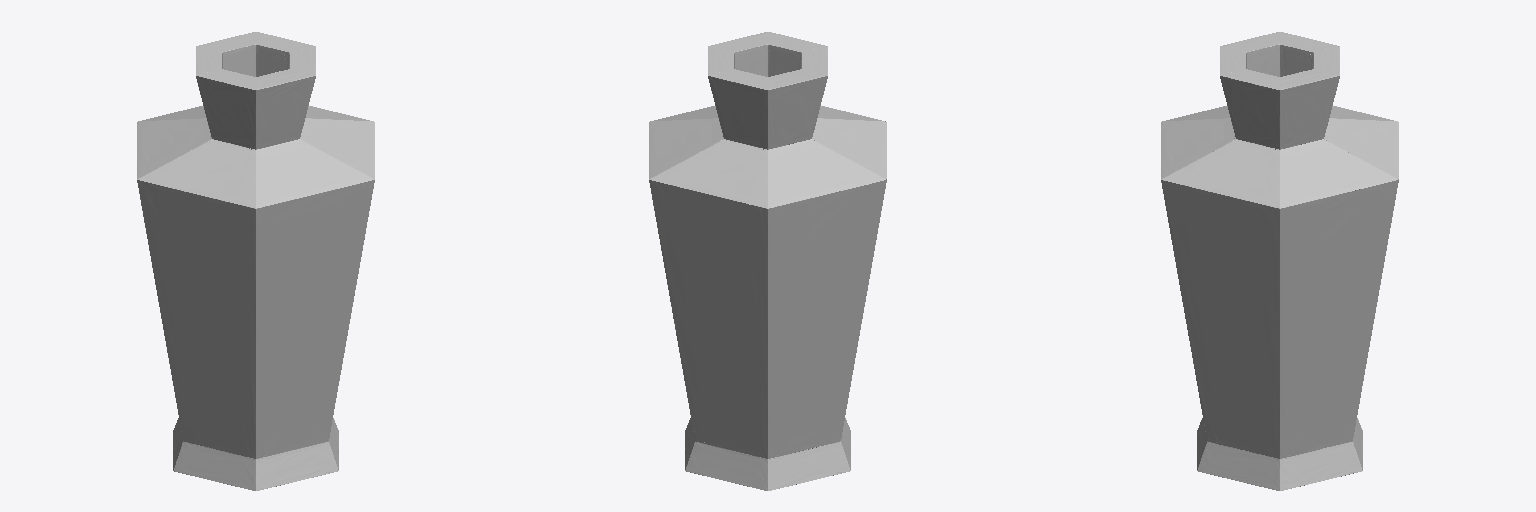
File: vaso_alto.obj
3 renders of one model, left to right at view 1: azimuth 30°, elevation 25°; view 2: azimuth 150°, elevation 25°; view 3: azimuth 270°, elevation 25°, orthographic.
Visible parts, largest first — view 1: Cylinder012; view 2: Cylinder012; view 3: Cylinder012.
Boxes of the visible parts, box(x1,y1,x2,y2) form: Cylinder012: box(137, 32, 374, 490); Cylinder012: box(649, 32, 886, 490); Cylinder012: box(1161, 32, 1398, 490).
Size of the model in its own units: 0.3793 by 0.5954 by 0.3291.